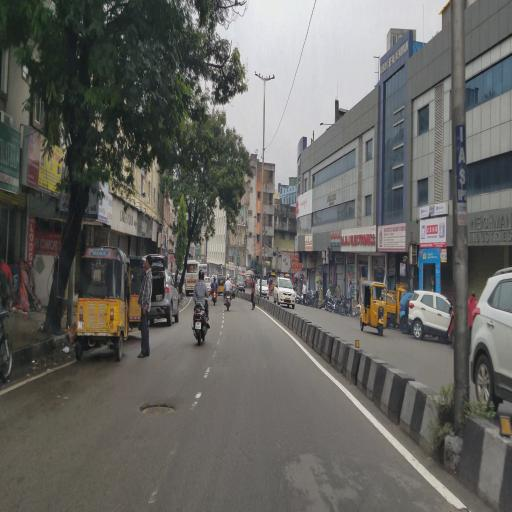street_light_0: (264, 70, 276, 92), (252, 66, 264, 88)
